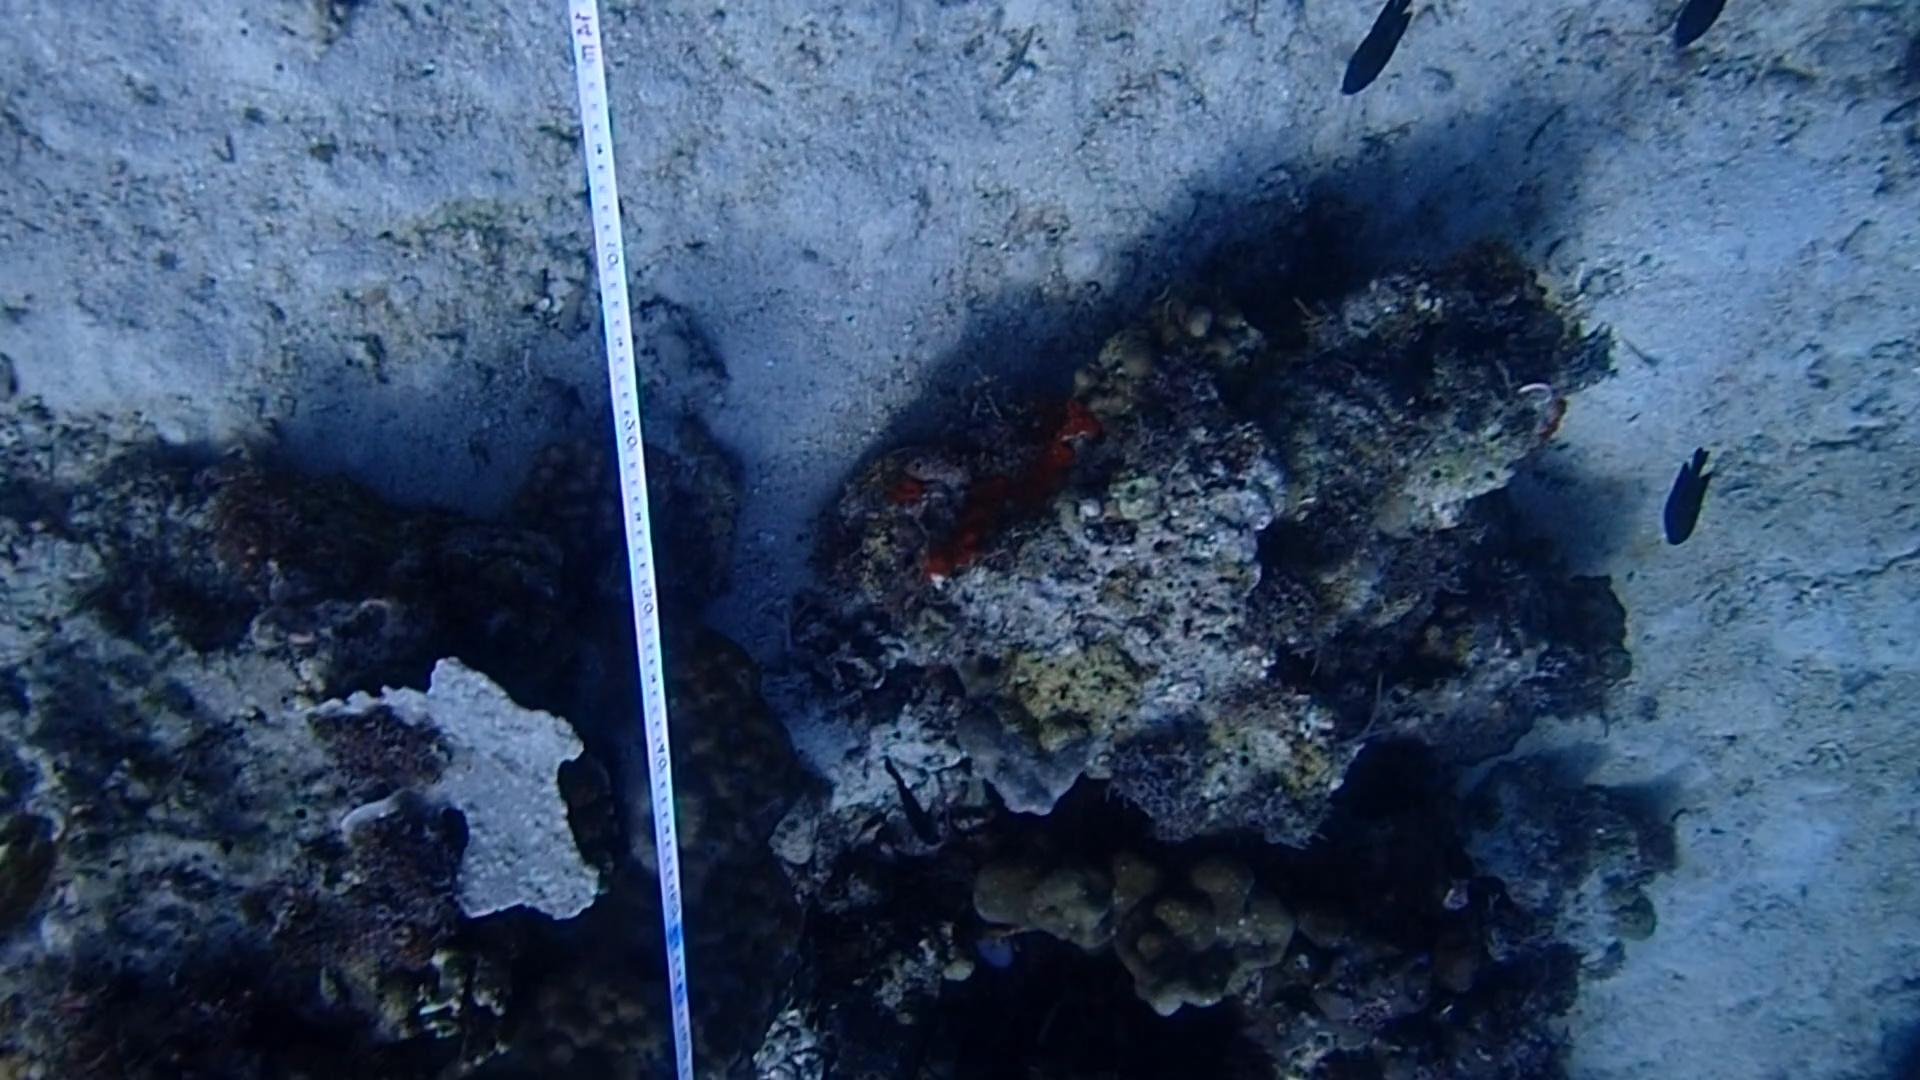Dark Fish: (1328, 1, 1412, 109), (876, 760, 945, 856), (1658, 443, 1717, 554), (1668, 0, 1721, 66)
